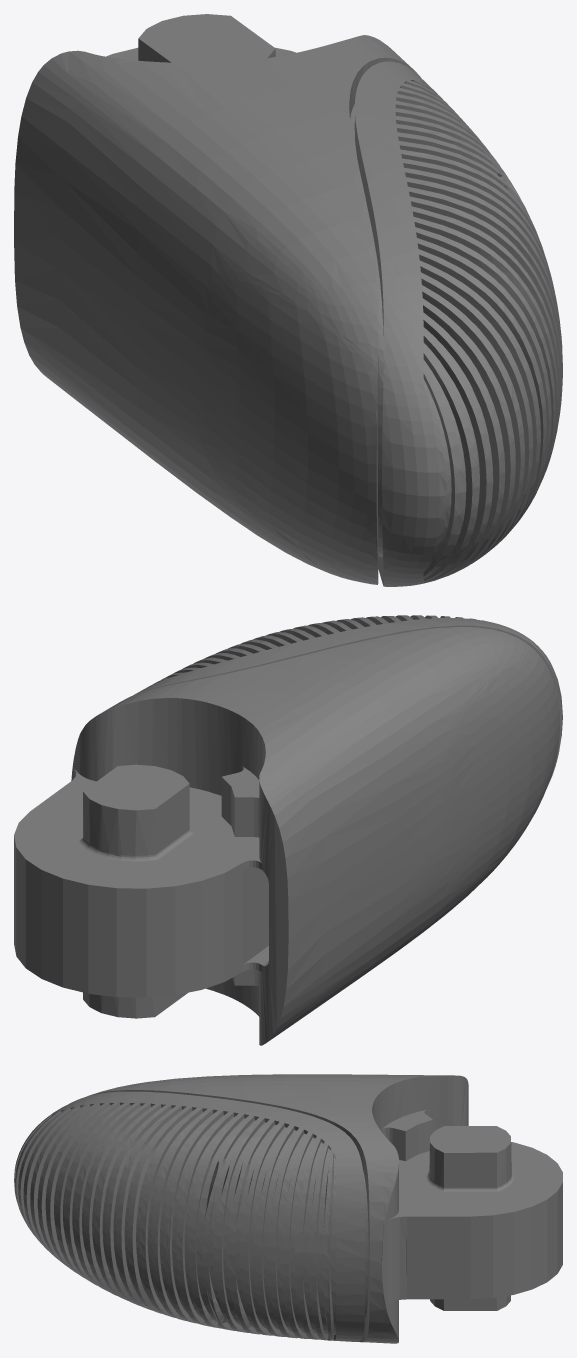
File: rh_middle_distal_vis.obj
3 renders of one model, top to bottom at view 1: azimuth 30°, elevation 25°; view 2: azimuth 150°, elevation 25°; view 3: azimuth 270°, elevation 25°, orthographic. The views are drawn at different scales.
Visible parts, largest first — view 1: rh_middle_distal; view 2: rh_middle_distal; view 3: rh_middle_distal.
Boxes of the visible parts, left/top/right/bottom form: rh_middle_distal: left=14, top=14, right=562, bottom=586; rh_middle_distal: left=14, top=615, right=562, bottom=1045; rh_middle_distal: left=14, top=1074, right=562, bottom=1343.
Bounding box in the file's own units: 0.0151 × 0.0145 × 0.033.
1 material, 1 textured.
